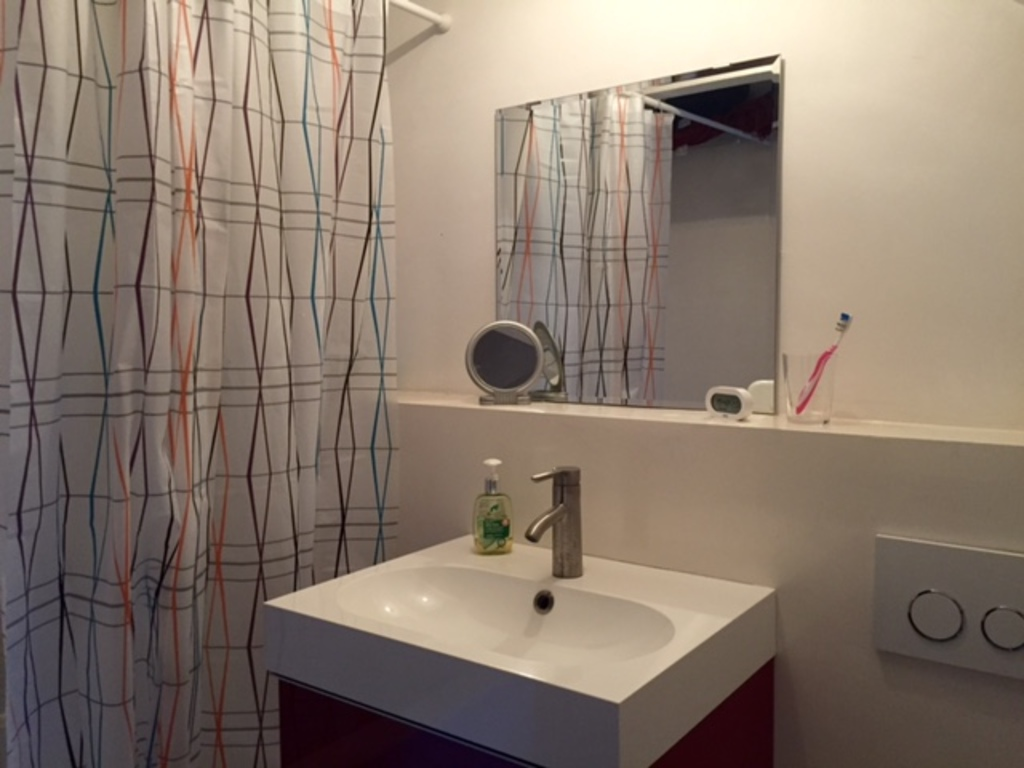tap: (531, 459, 590, 580)
